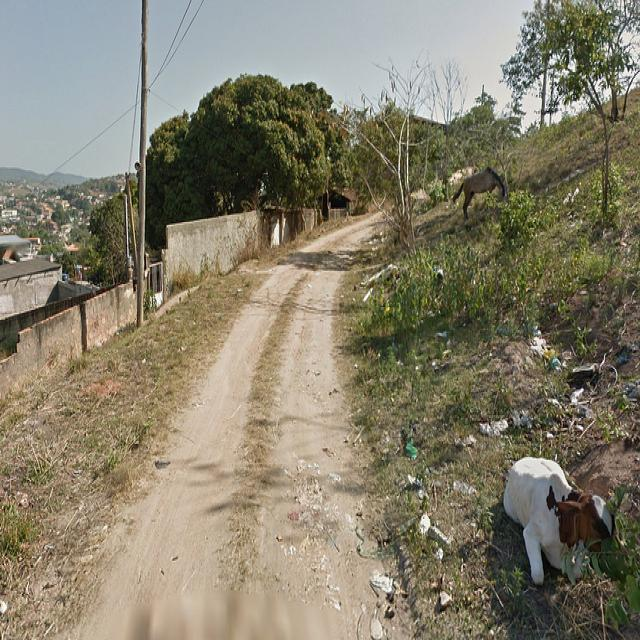cow: (502, 455, 614, 584)
